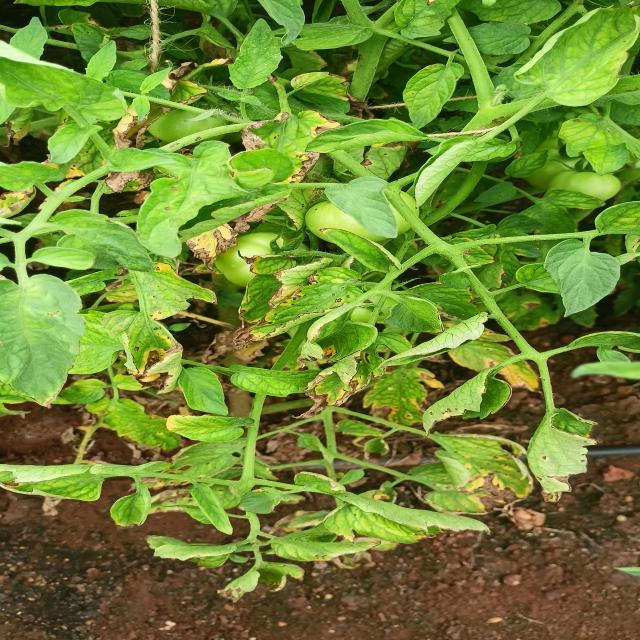Tomato mosaic virus leaf: (232, 249, 364, 350), (285, 347, 391, 422), (527, 408, 606, 506), (102, 262, 220, 320), (415, 376, 517, 440), (120, 322, 184, 398), (182, 220, 242, 276)
